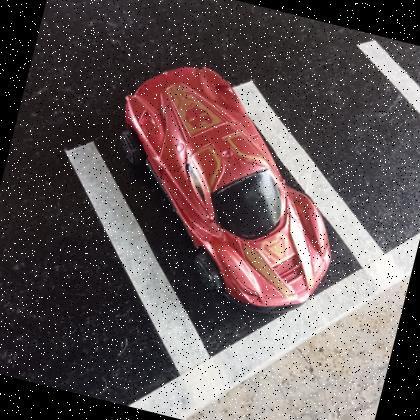Car: (124, 67, 332, 311)
